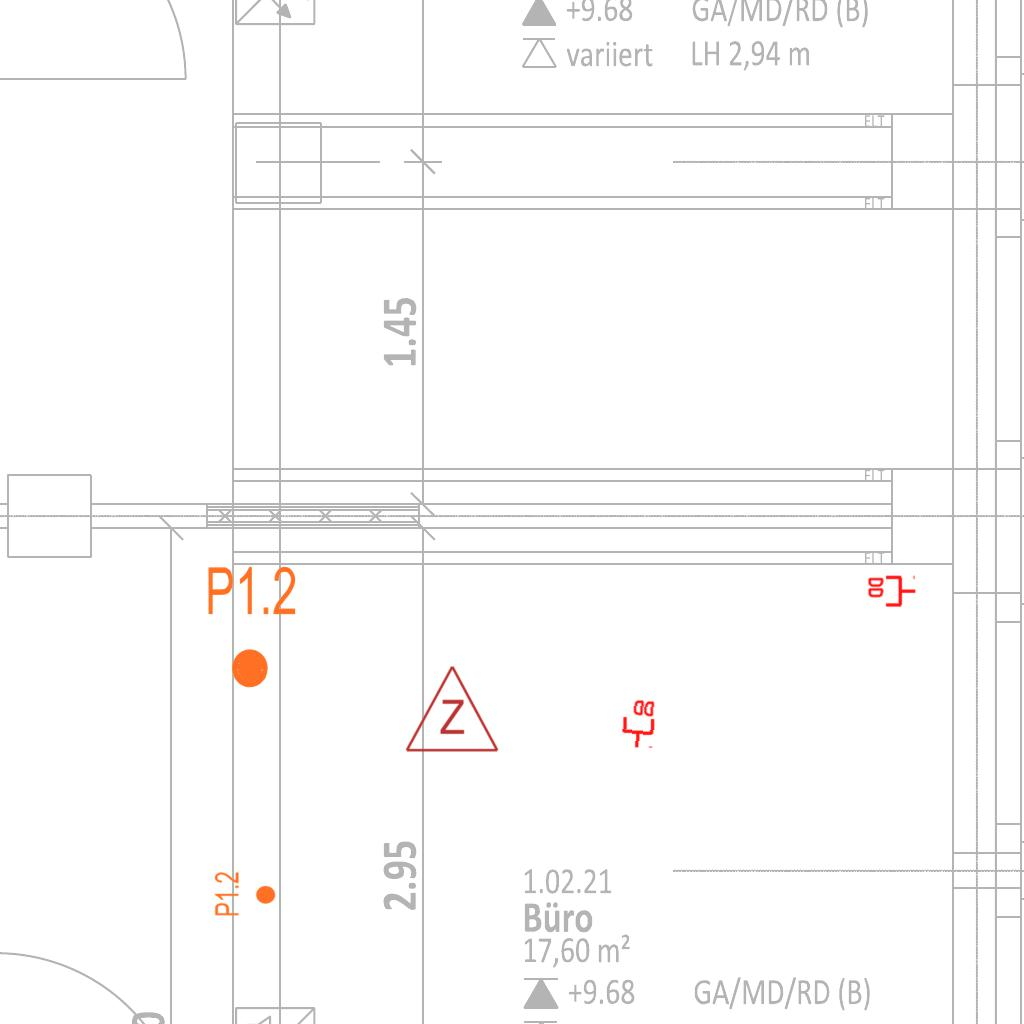Datenanschluss_zweifach: (618, 696, 658, 751), (866, 575, 917, 609)
Downlight_LED_Einbauleuchten_Flur: (205, 563, 298, 691), (213, 871, 277, 917)
Zimmersignalleuchte: (402, 659, 500, 759)
